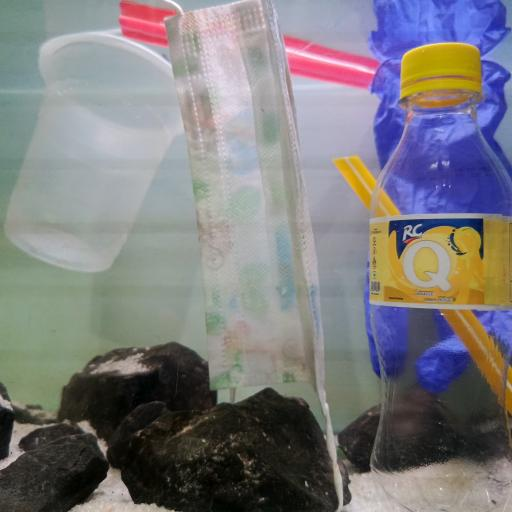bottle_cap: (401, 43, 482, 84)
glove: (361, 57, 512, 391)
mask: (164, 0, 332, 432)
plastic_bottle: (368, 41, 512, 512)
plastic_cup: (3, 30, 186, 275)
plastic_straw: (336, 156, 512, 413), (117, 15, 375, 91)
